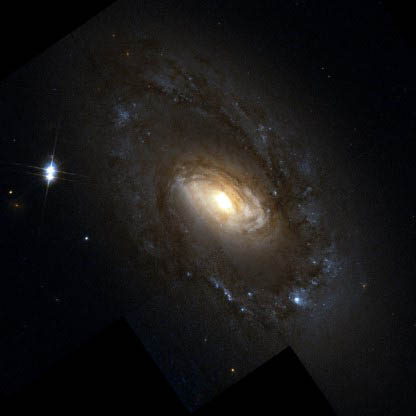NGC 4102: (33, 22, 347, 333)
